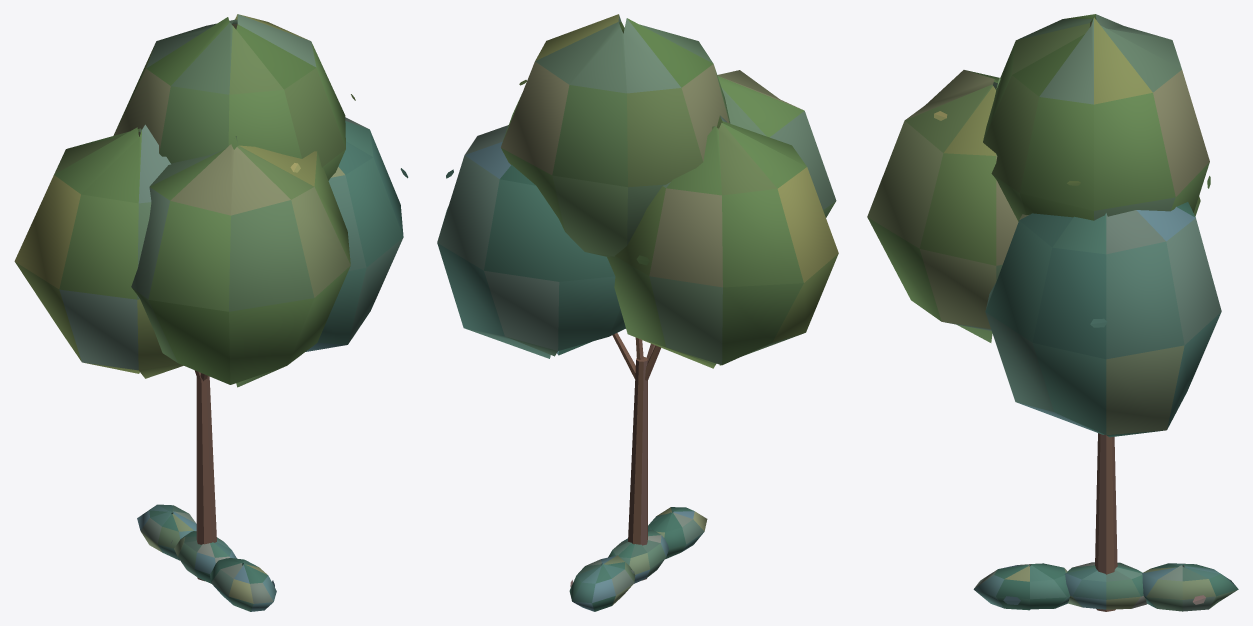
File: ART_TownTree.lod.glb
3 renders of one model, left to right at view 1: azimuth 30°, elevation 25°; view 2: azimuth 150°, elevation 25°; view 3: azimuth 270°, elevation 25°, orthographic. The views are drawn at different scales.
Visible parts, largest first — view 1: ART_TownTree; view 2: ART_TownTree; view 3: ART_TownTree.
Part boxes in pixels (<box>): ART_TownTree: <box>14,14,408,611</box>; ART_TownTree: <box>437,14,838,611</box>; ART_TownTree: <box>867,14,1238,611</box>.
Size of the model in its own units: 7.63 by 10.93 by 6.08.
